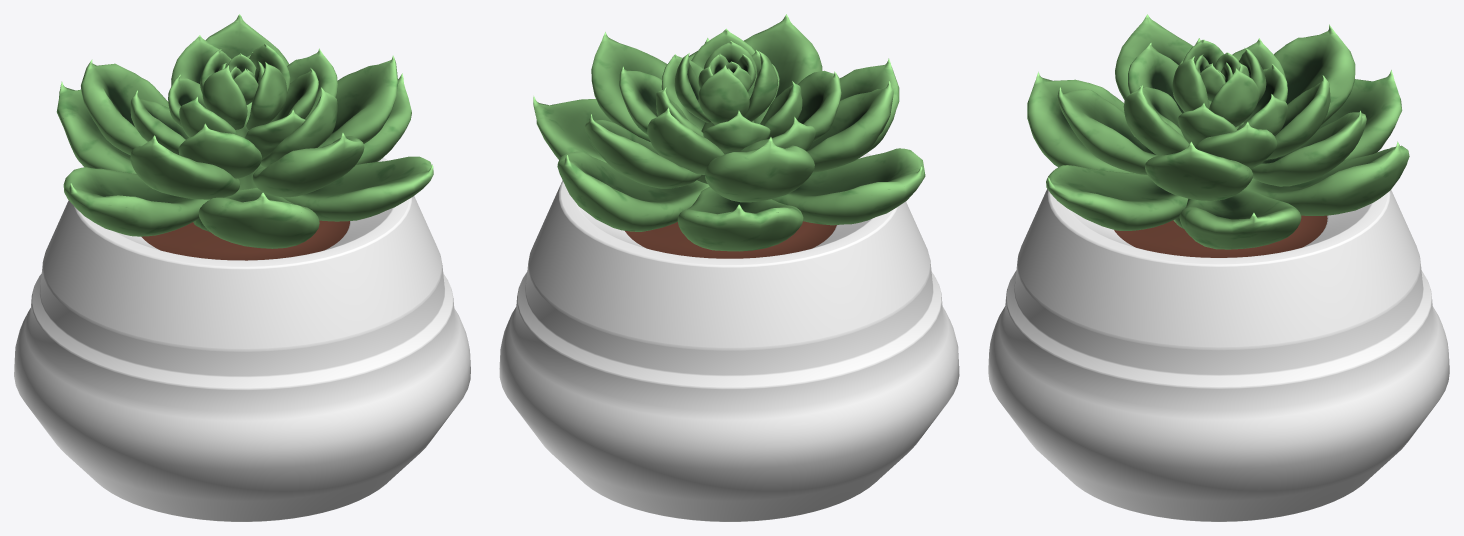
File: plant.glb
3 views of the same model, side by side, from view 1: azimuth 30°, elevation 25°; view 2: azimuth 150°, elevation 25°; view 3: azimuth 270°, elevation 25° (orthographic).
Parts seen in each view (by area): view 1: succulent plant; view 2: succulent plant; view 3: succulent plant.
Boxes of the visible parts, x1=… form: succulent plant: x1=14, y1=14, x2=470, y2=521; succulent plant: x1=499, y1=14, x2=959, y2=521; succulent plant: x1=988, y1=14, x2=1449, y2=521.
Size of the model in its own units: 2.92 by 2.82 by 2.92.
3 materials, 1 textured.
